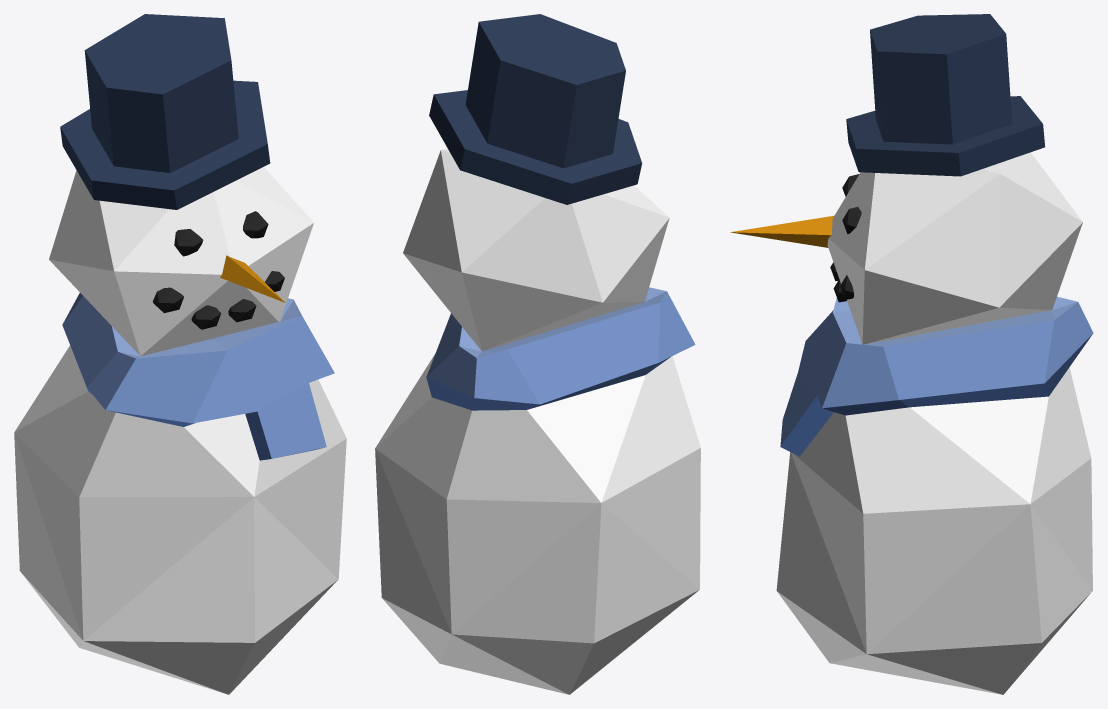
File: Snowman_Alt2.fbx
3 renders of one model, left to right at view 1: azimuth 30°, elevation 25°; view 2: azimuth 150°, elevation 25°; view 3: azimuth 270°, elevation 25°, orthographic. The views are drawn at different scales.
Parts seen in each view (by area): view 1: Snowman_Alt2; view 2: Snowman_Alt2; view 3: Snowman_Alt2.
Part boxes in pixels (box(x1,y1,x2,y2)): Snowman_Alt2: box(14, 14, 346, 694); Snowman_Alt2: box(375, 14, 700, 694); Snowman_Alt2: box(730, 14, 1093, 694).
Bounding box in the file's own units: 0.308 × 0.6919 × 0.3594.
